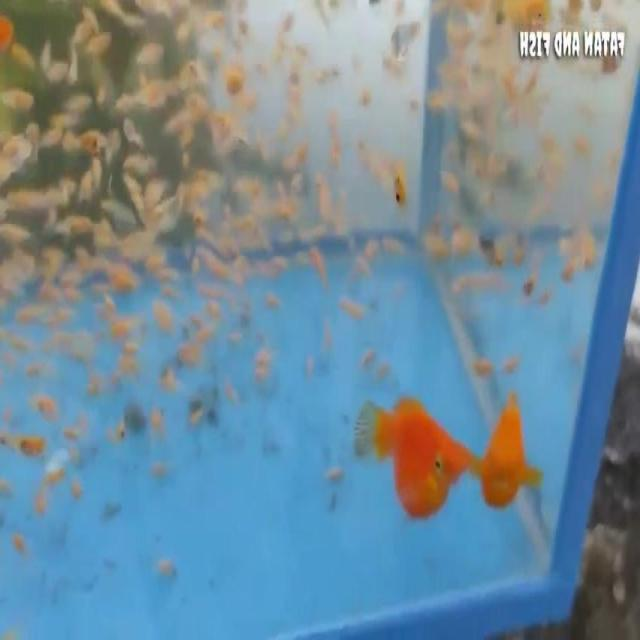PlatyFish: (350, 381, 476, 527)
